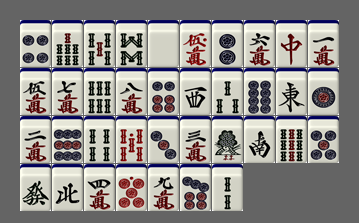0m: (180, 20, 211, 67)
0p: (116, 164, 147, 211)
0s: (116, 116, 147, 163)
1m: (308, 20, 339, 67)
1p: (308, 68, 339, 115)
1s: (212, 116, 243, 163)
1z: (276, 68, 307, 115)
2m: (20, 116, 51, 163)
2p: (212, 20, 243, 67)
2s: (212, 164, 243, 211)
2z: (244, 116, 275, 163)
3m: (180, 116, 211, 163)
3p: (148, 116, 179, 163)
3s: (212, 68, 243, 115)
3z: (180, 68, 211, 115)
4m: (84, 164, 115, 211)
4p: (20, 20, 51, 67)
4s: (84, 116, 115, 163)
4z: (52, 164, 83, 211)
5m: (20, 68, 51, 115)
5p: (308, 116, 339, 163)
5s: (84, 20, 115, 67)
5z: (148, 20, 179, 67)
6m: (244, 20, 275, 67)
6p: (148, 68, 179, 115)
6s: (84, 68, 115, 115)
6z: (20, 164, 51, 211)
7m: (52, 68, 83, 115)
7p: (180, 164, 211, 211)
7s: (52, 20, 83, 67)
7z: (276, 20, 307, 67)
8m: (116, 68, 147, 115)
8p: (244, 68, 275, 115)
8s: (116, 20, 147, 67)
9m: (148, 164, 179, 211)
9p: (52, 116, 83, 163)
9s: (276, 116, 307, 163)
